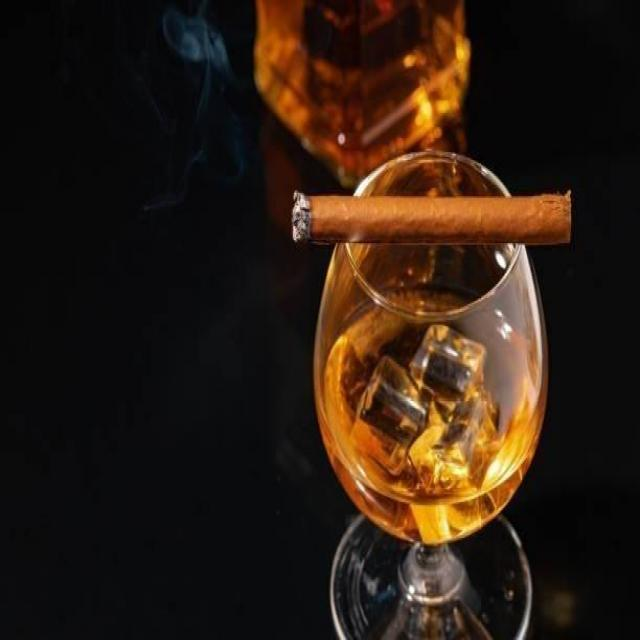glass-wine: (311, 147, 550, 640)
